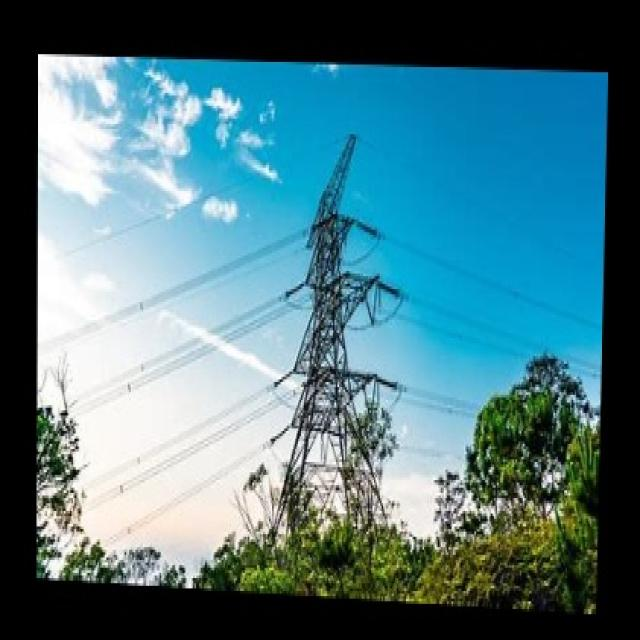utility poles: (452, 310, 568, 499), (320, 372, 410, 531)
